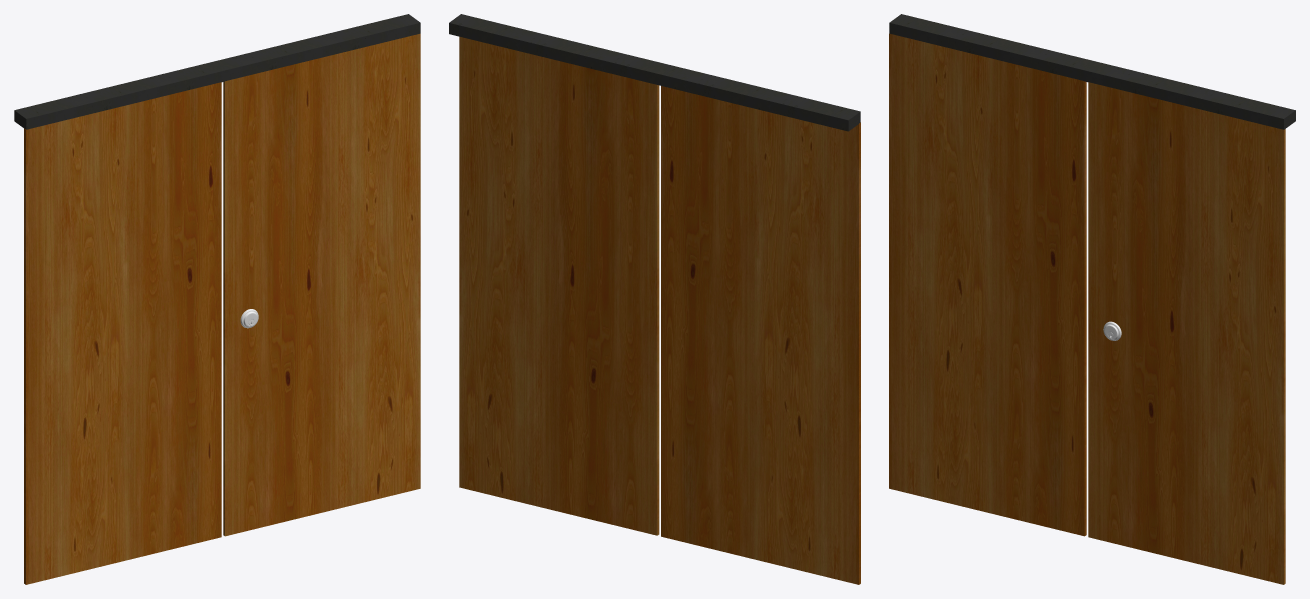
The model's file is door shape 5.fbx.
3 renders of one model, left to right at view 1: azimuth 30°, elevation 25°; view 2: azimuth 150°, elevation 25°; view 3: azimuth 330°, elevation 25°, orthographic.
Parts seen in each view (by area): view 1: Plane, Plane.001, Cube; view 2: Plane.001, Plane, Cube; view 3: Plane, Plane.001, Cube.
Part boxes in pixels (x1,y1,x2,y2): Plane: (24,82,221,584); Plane.001: (223,33,420,536); Cube: (14,14,420,129); Plane.001: (459,36,659,535); Plane: (661,86,860,584); Cube: (449,14,860,131); Plane: (889,33,1086,536); Plane.001: (1088,82,1285,584); Cube: (889,14,1295,129).
Bounding box in the file's own units: 605 × 683 × 36.91.
Materials: 3 (3 with a texture image).
